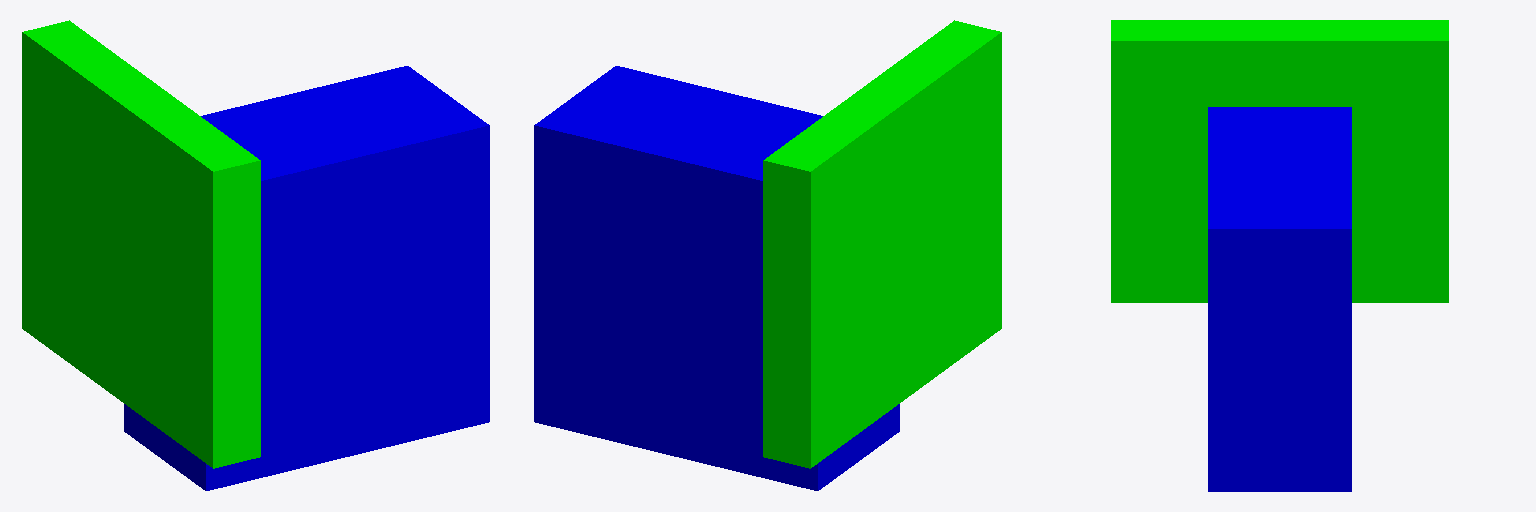
The robot description file, URDF, robot "robot":
<robot name = "robot">
    <link name="root">
        <inertial>
            <origin xyz="0.0 0.0 1.5" rpy="0 0 0"/>
            <mass value="1" />
            <inertia ixx="100" ixy="0" ixz="0" iyy="100" iyz="0" izz="100" />
        </inertial>
        <visual>
            <origin xyz="0.0 0.0 1.5" rpy="0 0 0"/>
            <geometry>
                <box size="0 0 0.0001" />
            </geometry>
            <material name="Green">
                <color rgba="0 1.0 0.0 1.0"/>
            </material>
        </visual>
        <collision>
            <origin xyz="0.0 0.0 1.5" rpy="0 0 0"/>
            <geometry>
                <box size="0 0 0.0001" />
            </geometry>
        </collision>
    </link>
    <joint name="root_000" type="revolute">
       <parent link="root"/>
       <child  link="000"/>
       <origin rpy="0 0 0" xyz="0.0 0.0 1.5" />
     <axis xyz="1 0 0"/>
       <limit effort="0.0" lower="-3.14159" upper="3.14159" velocity="0.0"/>
    </joint>
    <link name="000">
        <inertial>
            <origin xyz="0.0 0.0 -0.15" rpy="0 0 0"/>
            <mass value="1" />
            <inertia ixx="100" ixy="0" ixz="0" iyy="100" iyz="0" izz="100" />
        </inertial>
        <visual>
            <origin xyz="0.0 0.0 -0.15" rpy="0 0 0"/>
            <geometry>
                <box size="0.1 0.7 0.3" />
            </geometry>
            <material name="Green">
                <color rgba="0 1.0 0.0 1.0"/>
            </material>
        </visual>
        <collision>
            <origin xyz="0.0 0.0 -0.15" rpy="0 0 0"/>
            <geometry>
                <box size="0.1 0.7 0.3" />
            </geometry>
        </collision>
    </link>
    <joint name="000_010" type="revolute">
       <parent link="000"/>
       <child  link="010"/>
       <origin rpy="0 0 0" xyz="0.0 0.0 -0.3" />
     <axis xyz="0 0 1"/>
       <limit effort="0.0" lower="-3.14159" upper="3.14159" velocity="0.0"/>
    </joint>
    <link name="010">
        <inertial>
            <origin xyz="0.0 0.0 -0.15" rpy="0 0 0"/>
            <mass value="1" />
            <inertia ixx="100" ixy="0" ixz="0" iyy="100" iyz="0" izz="100" />
        </inertial>
        <visual>
            <origin xyz="0.0 0.0 -0.15" rpy="0 0 0"/>
            <geometry>
                <box size="0.1 0.7 0.3" />
            </geometry>
            <material name="Green">
                <color rgba="0 1.0 0.0 1.0"/>
            </material>
        </visual>
        <collision>
            <origin xyz="0.0 0.0 -0.15" rpy="0 0 0"/>
            <geometry>
                <box size="0.1 0.7 0.3" />
            </geometry>
        </collision>
    </link>
    <joint name="010_010-100" type="revolute">
       <parent link="010"/>
       <child  link="010-100"/>
       <origin rpy="0 0 0" xyz="0.05 0.0 -0.15" />
     <axis xyz="1 0 0"/>
       <limit effort="0.0" lower="-3.14159" upper="3.14159" velocity="0.0"/>
    </joint>
    <link name="010-100">
        <inertial>
            <origin xyz="0.15 0.0 -0.0" rpy="0 0 0"/>
            <mass value="1" />
            <inertia ixx="100" ixy="0" ixz="0" iyy="100" iyz="0" izz="100" />
        </inertial>
        <visual>
            <origin xyz="0.15 0.0 -0.0" rpy="0 0 0"/>
            <geometry>
                <box size="0.3 0.3 0.6" />
            </geometry>
            <material name="Blue">
                <color rgba="0 0.0 1.0 1.0"/>
            </material>
        </visual>
        <collision>
            <origin xyz="0.15 0.0 -0.0" rpy="0 0 0"/>
            <geometry>
                <box size="0.3 0.3 0.6" />
            </geometry>
        </collision>
    </link>
    <joint name="010-100_010-110" type="revolute">
       <parent link="010-100"/>
       <child  link="010-110"/>
       <origin rpy="0 0 0" xyz="0.3 0.0 -0.0" />
     <axis xyz="1 0 0"/>
       <limit effort="0.0" lower="-3.14159" upper="3.14159" velocity="0.0"/>
    </joint>
    <link name="010-110">
        <inertial>
            <origin xyz="0.15 0.0 -0.0" rpy="0 0 0"/>
            <mass value="1" />
            <inertia ixx="100" ixy="0" ixz="0" iyy="100" iyz="0" izz="100" />
        </inertial>
        <visual>
            <origin xyz="0.15 0.0 -0.0" rpy="0 0 0"/>
            <geometry>
                <box size="0.3 0.3 0.6" />
            </geometry>
            <material name="Blue">
                <color rgba="0 0.0 1.0 1.0"/>
            </material>
        </visual>
        <collision>
            <origin xyz="0.15 0.0 -0.0" rpy="0 0 0"/>
            <geometry>
                <box size="0.3 0.3 0.6" />
            </geometry>
        </collision>
    </link>
</robot>

--- What the picture shows (computed from the rendered views, not written in the file) ---
The picture shows the robot from 3 angles, left to right: view 1: azimuth 30°, elevation 25°; view 2: azimuth 150°, elevation 25°; view 3: azimuth 270°, elevation 25°; orthographic projection.
Robot: robot — 5 links, 4 joints (4 revolute); root link root; default pose: all joints at 0.
Visible links, largest first — view 1: 010-110, 000, 010, 010-100; view 2: 010-110, 000, 010, 010-100; view 3: 010-110, 000, 010, 010-100.
Link boxes in pixels (x1=…): 010-110: x1=267, y1=66, x2=489, y2=456; 000: x1=22, y1=20, x2=260, y2=319; 010: x1=22, y1=181, x2=260, y2=468; 010-100: x1=124, y1=100, x2=347, y2=490; 010-110: x1=534, y1=66, x2=756, y2=456; 000: x1=763, y1=20, x2=1001, y2=319; 010: x1=763, y1=181, x2=1001, y2=468; 010-100: x1=676, y1=100, x2=899, y2=490; 010-110: x1=1208, y1=168, x2=1351, y2=491; 000: x1=1111, y1=20, x2=1448, y2=171; 010: x1=1111, y1=172, x2=1448, y2=302; 010-100: x1=1208, y1=107, x2=1351, y2=167.
Bounding box of the posed robot: 0.7 × 0.7 × 0.75 m (x, y, z).
Geometry: primitives only (box / cylinder / sphere), no mesh files.
